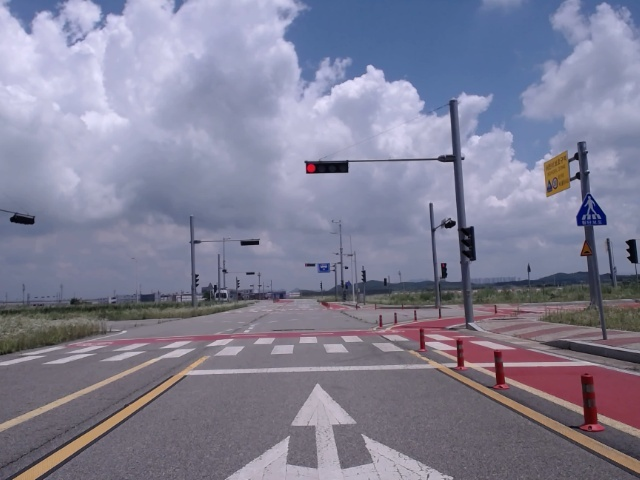red_4: (305, 162, 348, 173)
